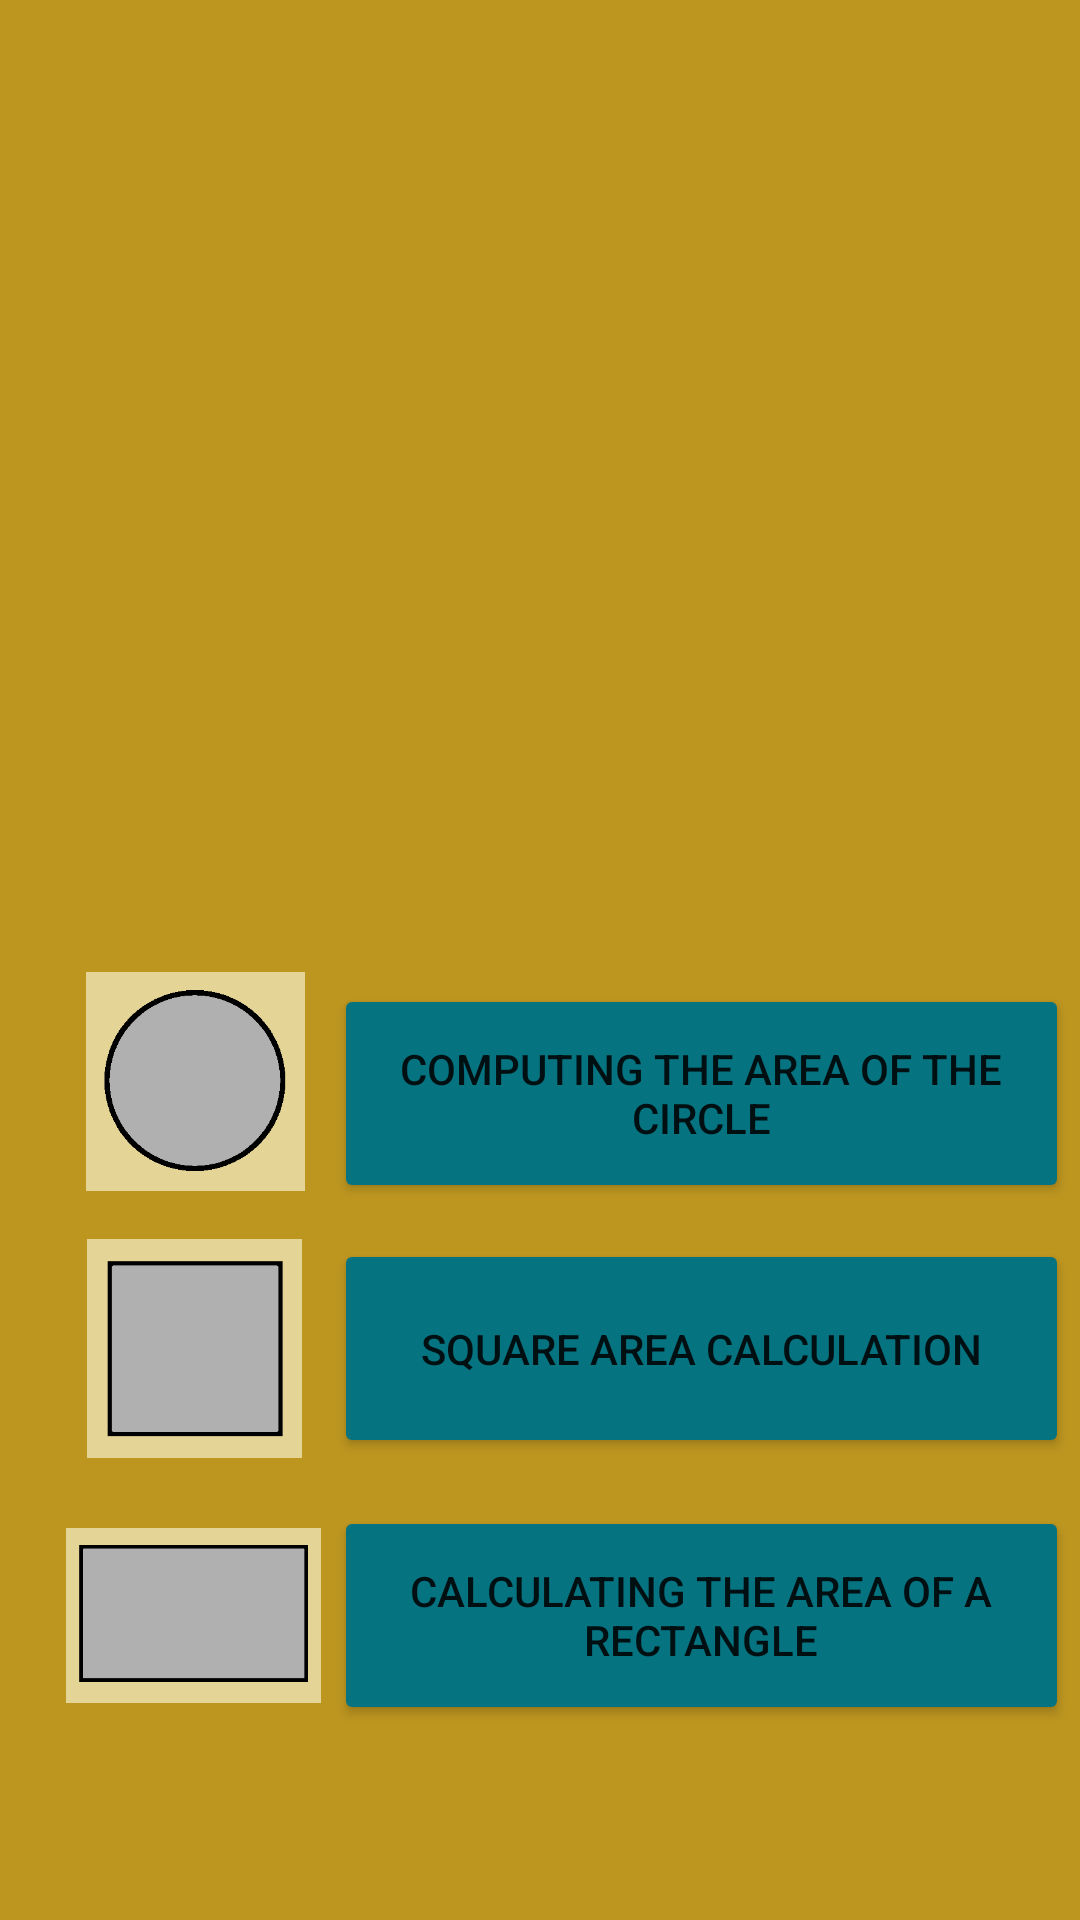

Named icons in this screenshot (1080px x 1920px) and their bounding boxes, bbox=(x1, y1, x2, y2):
squear: bbox=(87, 1239, 302, 1458)
